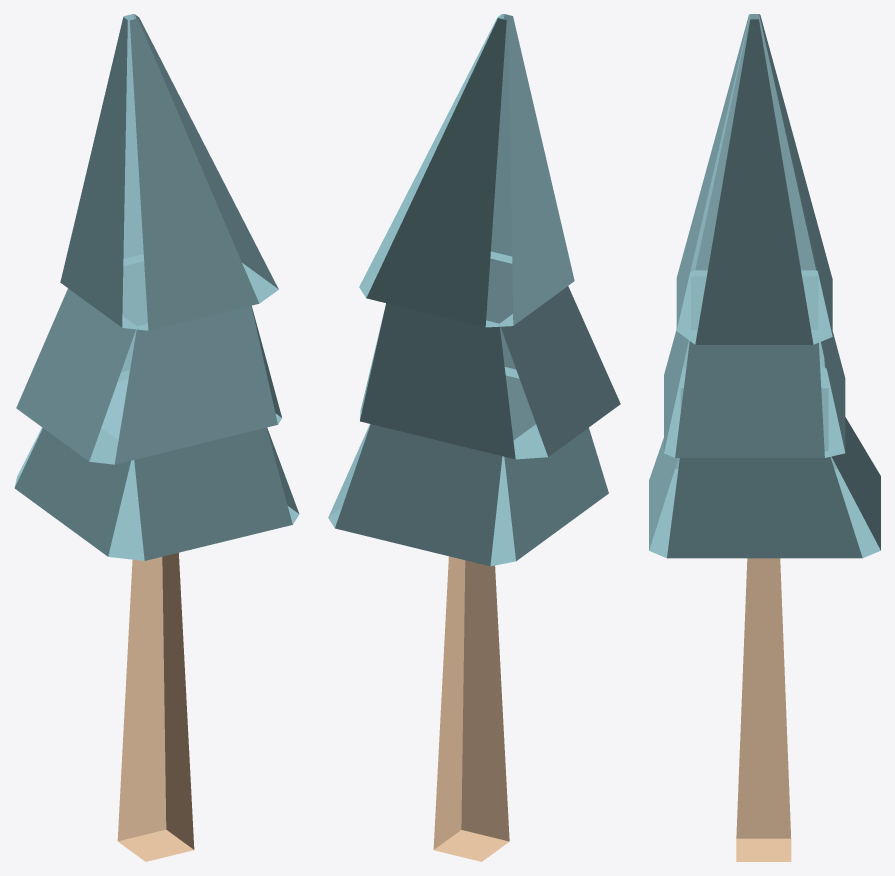
Rendered from tree_pine_shortSquare.glb.
3 renders of one model, left to right at view 1: azimuth 30°, elevation 25°; view 2: azimuth 150°, elevation 25°; view 3: azimuth 270°, elevation 25°, orthographic. The views are drawn at different scales.
Parts seen in each view (by area): view 1: tree_pine_shortSquare; view 2: tree_pine_shortSquare; view 3: tree_pine_shortSquare.
Part boxes in pixels (<box>): tree_pine_shortSquare: <box>14,14,299,861</box>; tree_pine_shortSquare: <box>328,14,620,861</box>; tree_pine_shortSquare: <box>649,14,880,861</box>.
Size of the model in its own units: 3.86 by 15.3 by 3.92.
